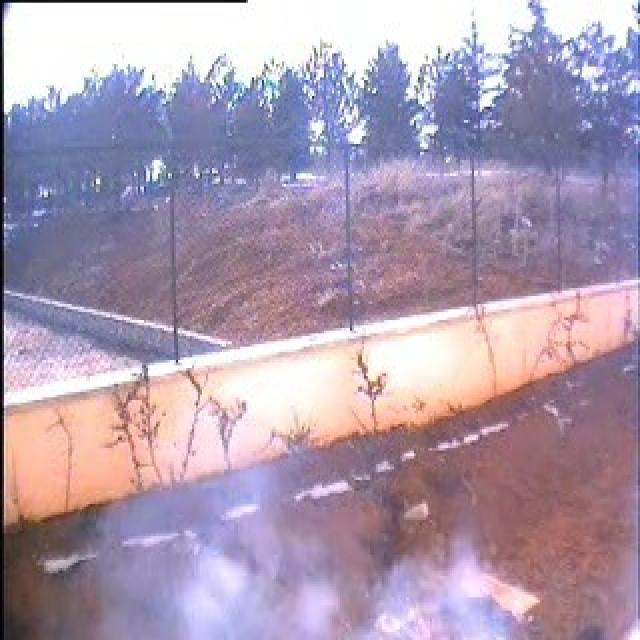Smoke: (94, 463, 338, 640), (368, 538, 508, 640)
